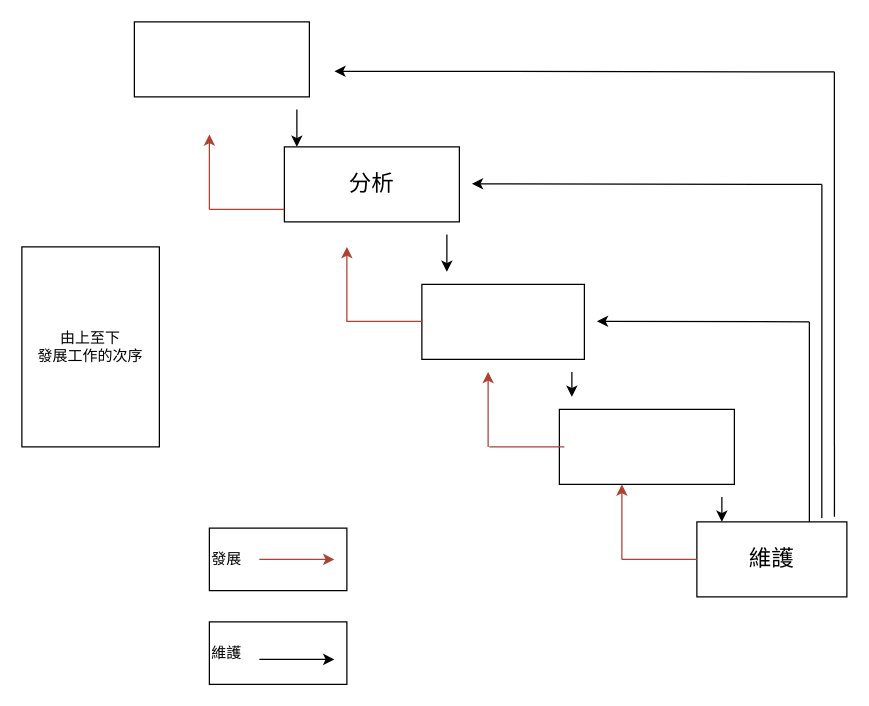
Some shapes in this 869 by 706 pixel diagram are drawn without their labels. The shapes that lost their labels are listed below. From the top down, each one's box as (x1, y1, x2, y2) in pixels, then its label:
(133, 21, 309, 97): 需求
(421, 283, 584, 359): 設計
(558, 408, 734, 484): 製作
